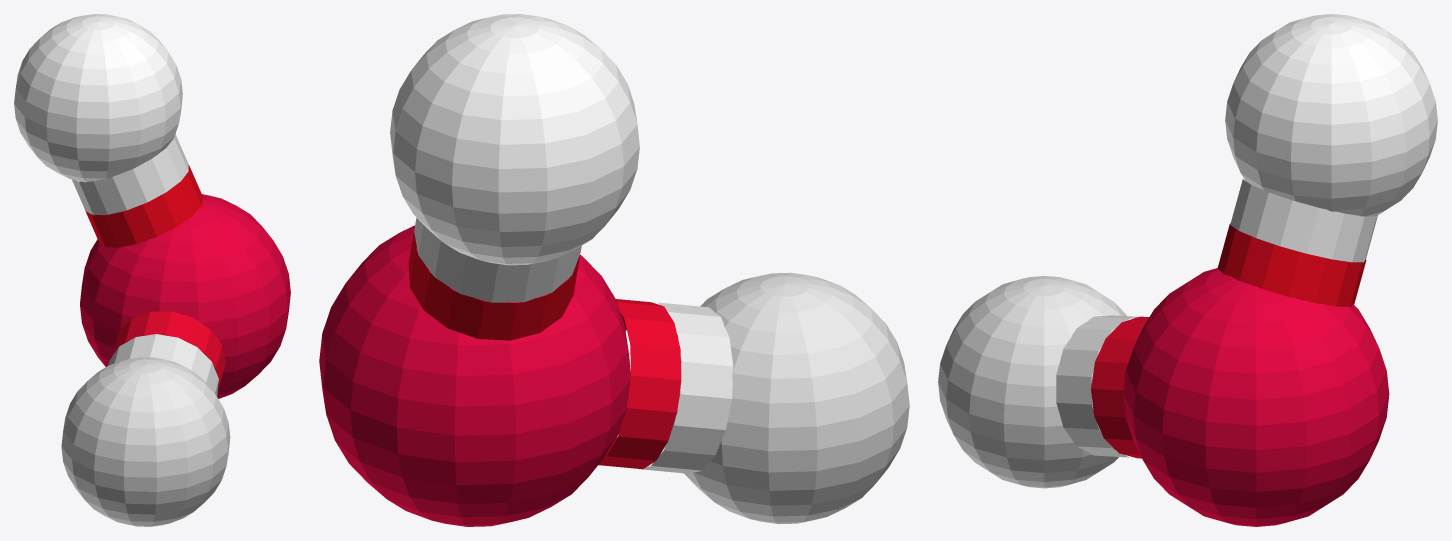
The model's file is asset.gltf.
3 renders of one model, left to right at view 1: azimuth 30°, elevation 25°; view 2: azimuth 150°, elevation 25°; view 3: azimuth 270°, elevation 25°, orthographic. The views are drawn at different scales.
Parts seen in each view (by area): view 1: Shape_Sphere, Shape_Sphere.002, Shape_Sphere.001, Shape_Cylinder.001, Shape_Cylinder, Shape_Cylinder.002, Shape_Cylinder.003; view 2: Shape_Sphere, Shape_Sphere.001, Shape_Sphere.002, Shape_Cylinder.003, Shape_Cylinder.002, Shape_Cylinder, Shape_Cylinder.001; view 3: Shape_Sphere, Shape_Sphere.001, Shape_Sphere.002, Shape_Cylinder.001, Shape_Cylinder, Shape_Cylinder.003, Shape_Cylinder.002.
Part boxes in pixels (x1,y1,x2,y2): Shape_Sphere: (80,194,290,398); Shape_Sphere.002: (61,357,230,526); Shape_Sphere.001: (14,14,182,182); Shape_Cylinder.001: (72,134,188,215); Shape_Cylinder: (85,165,203,247); Shape_Cylinder.002: (111,311,225,389); Shape_Cylinder.003: (108,334,218,396); Shape_Sphere: (319,225,630,526); Shape_Sphere.001: (390,14,639,265); Shape_Sphere.002: (671,272,909,524); Shape_Cylinder.003: (639,302,733,473); Shape_Cylinder.002: (598,299,681,469); Shape_Cylinder: (408,231,579,340); Shape_Cylinder.001: (414,217,581,302); Shape_Sphere: (1123,268,1389,526); Shape_Sphere.001: (1225,14,1437,216); Shape_Sphere.002: (938,276,1129,488); Shape_Cylinder.001: (1230,179,1377,262); Shape_Cylinder: (1217,223,1366,306); Shape_Cylinder.003: (1056,315,1137,457); Shape_Cylinder.002: (1091,316,1149,458).
Bounding box in the file's own units: 1.42 × 1.85 × 1.69.
